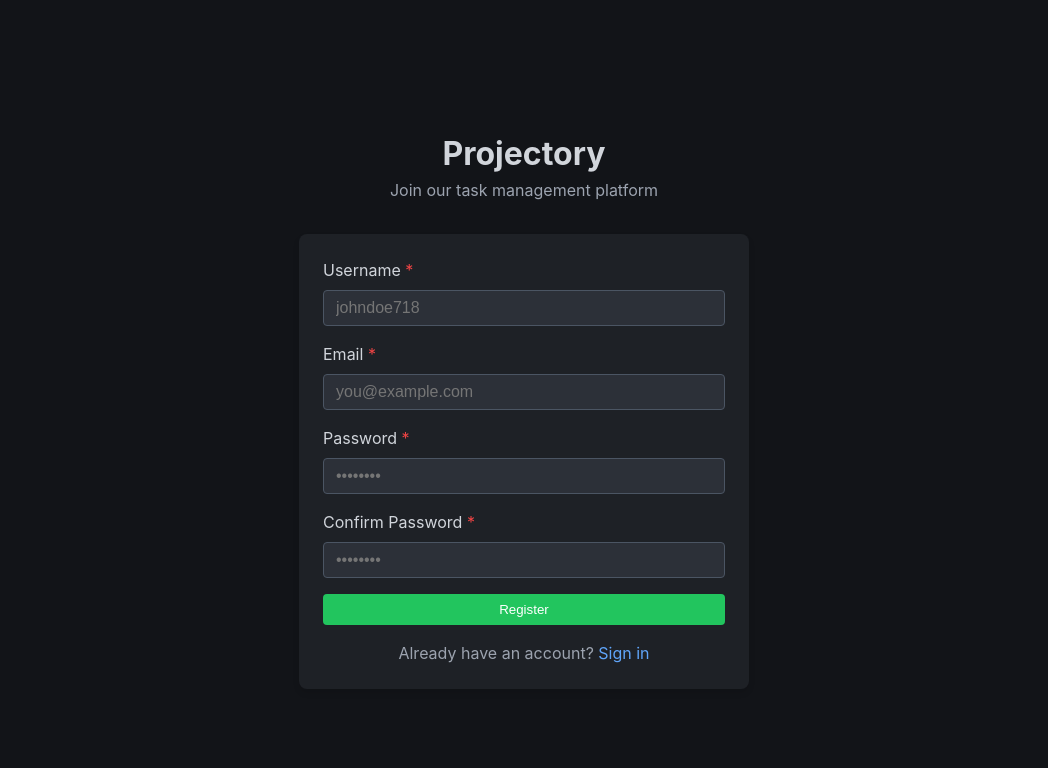
it: RegisterPage Component › shows error message on registration failure
In the field labelled "Username *": (524, 308) [323,290,725,326], type "johndoe"
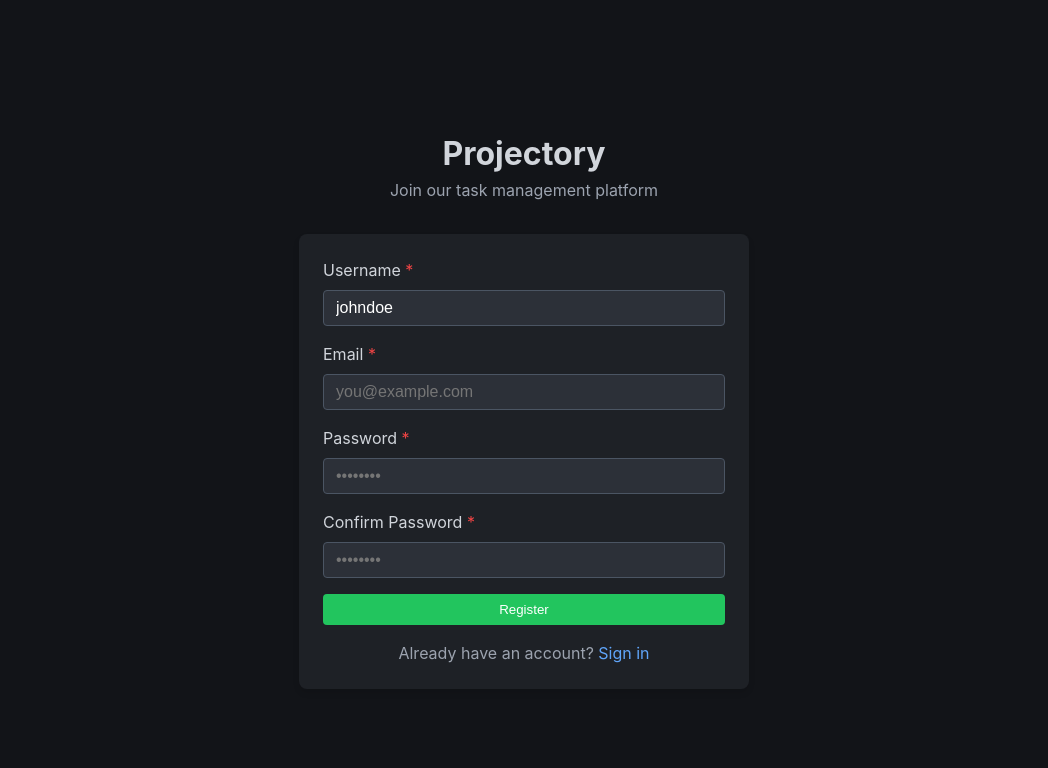
In the field labelled "Email *": (524, 392) [323,374,725,410], type "johndoe@example.com"
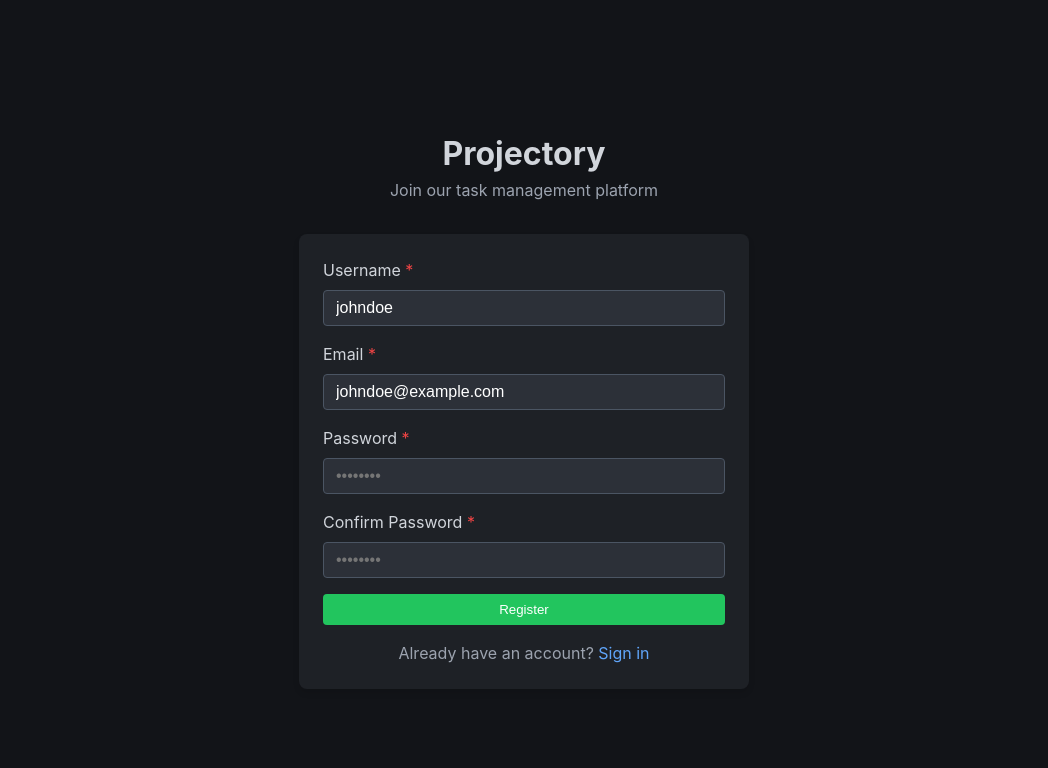
In the password field labelled "Password *": (524, 476) [323,458,725,494], type "password123"
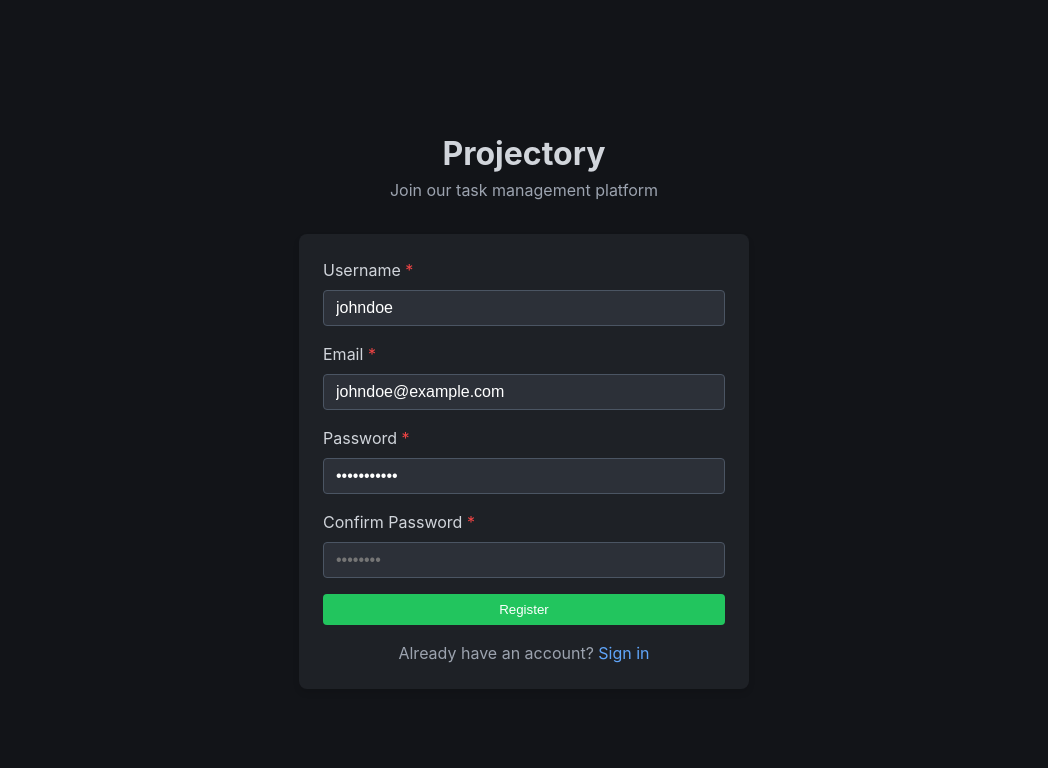
In the password field labelled "Confirm Password *": (524, 560) [323,542,725,578], type "password123"
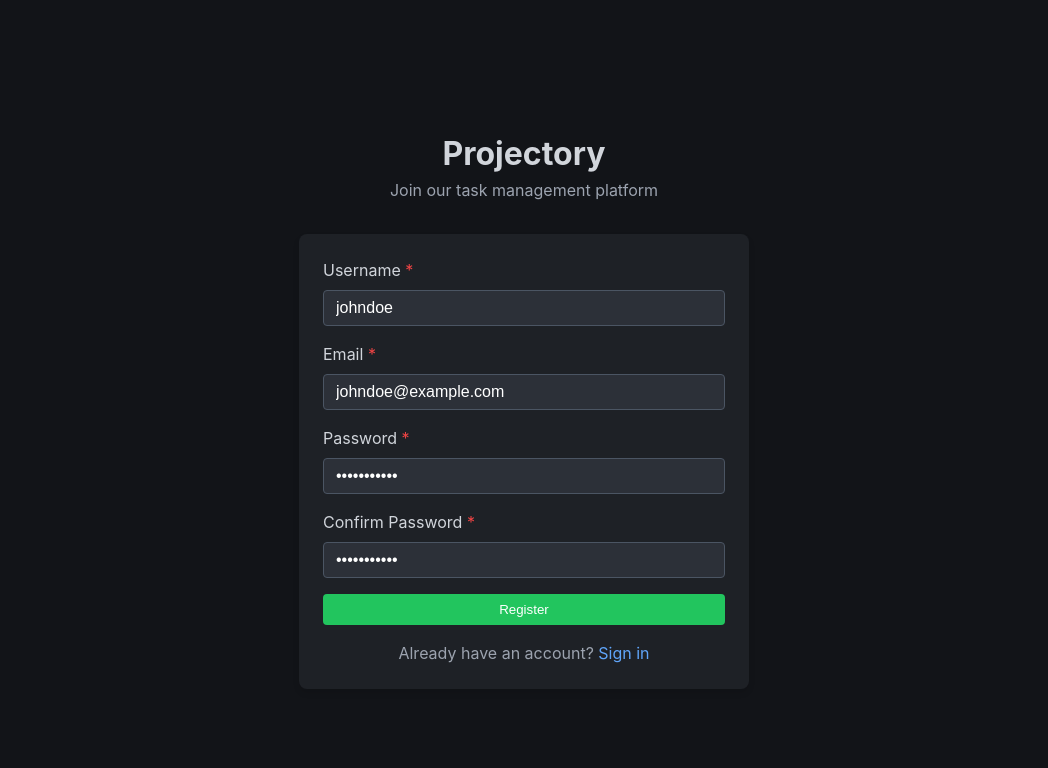
Click the button "Register": (524, 609) [323,594,725,624]
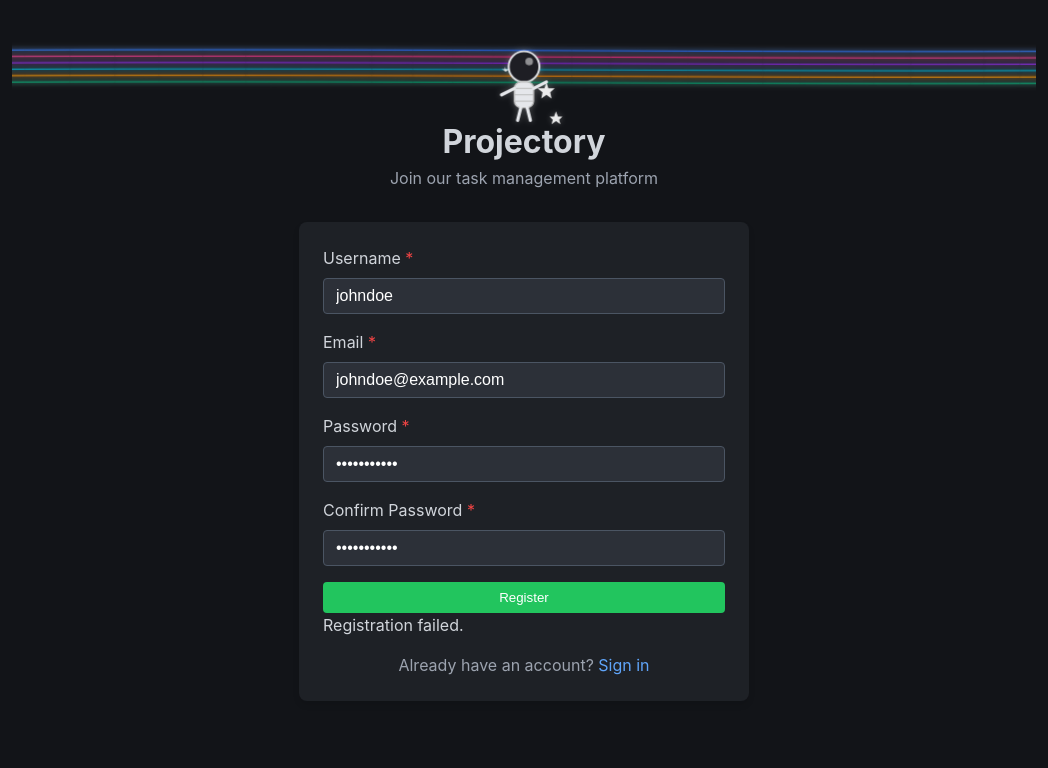
Result: the text "Registration failed." is shown at [323,614,464,634]
